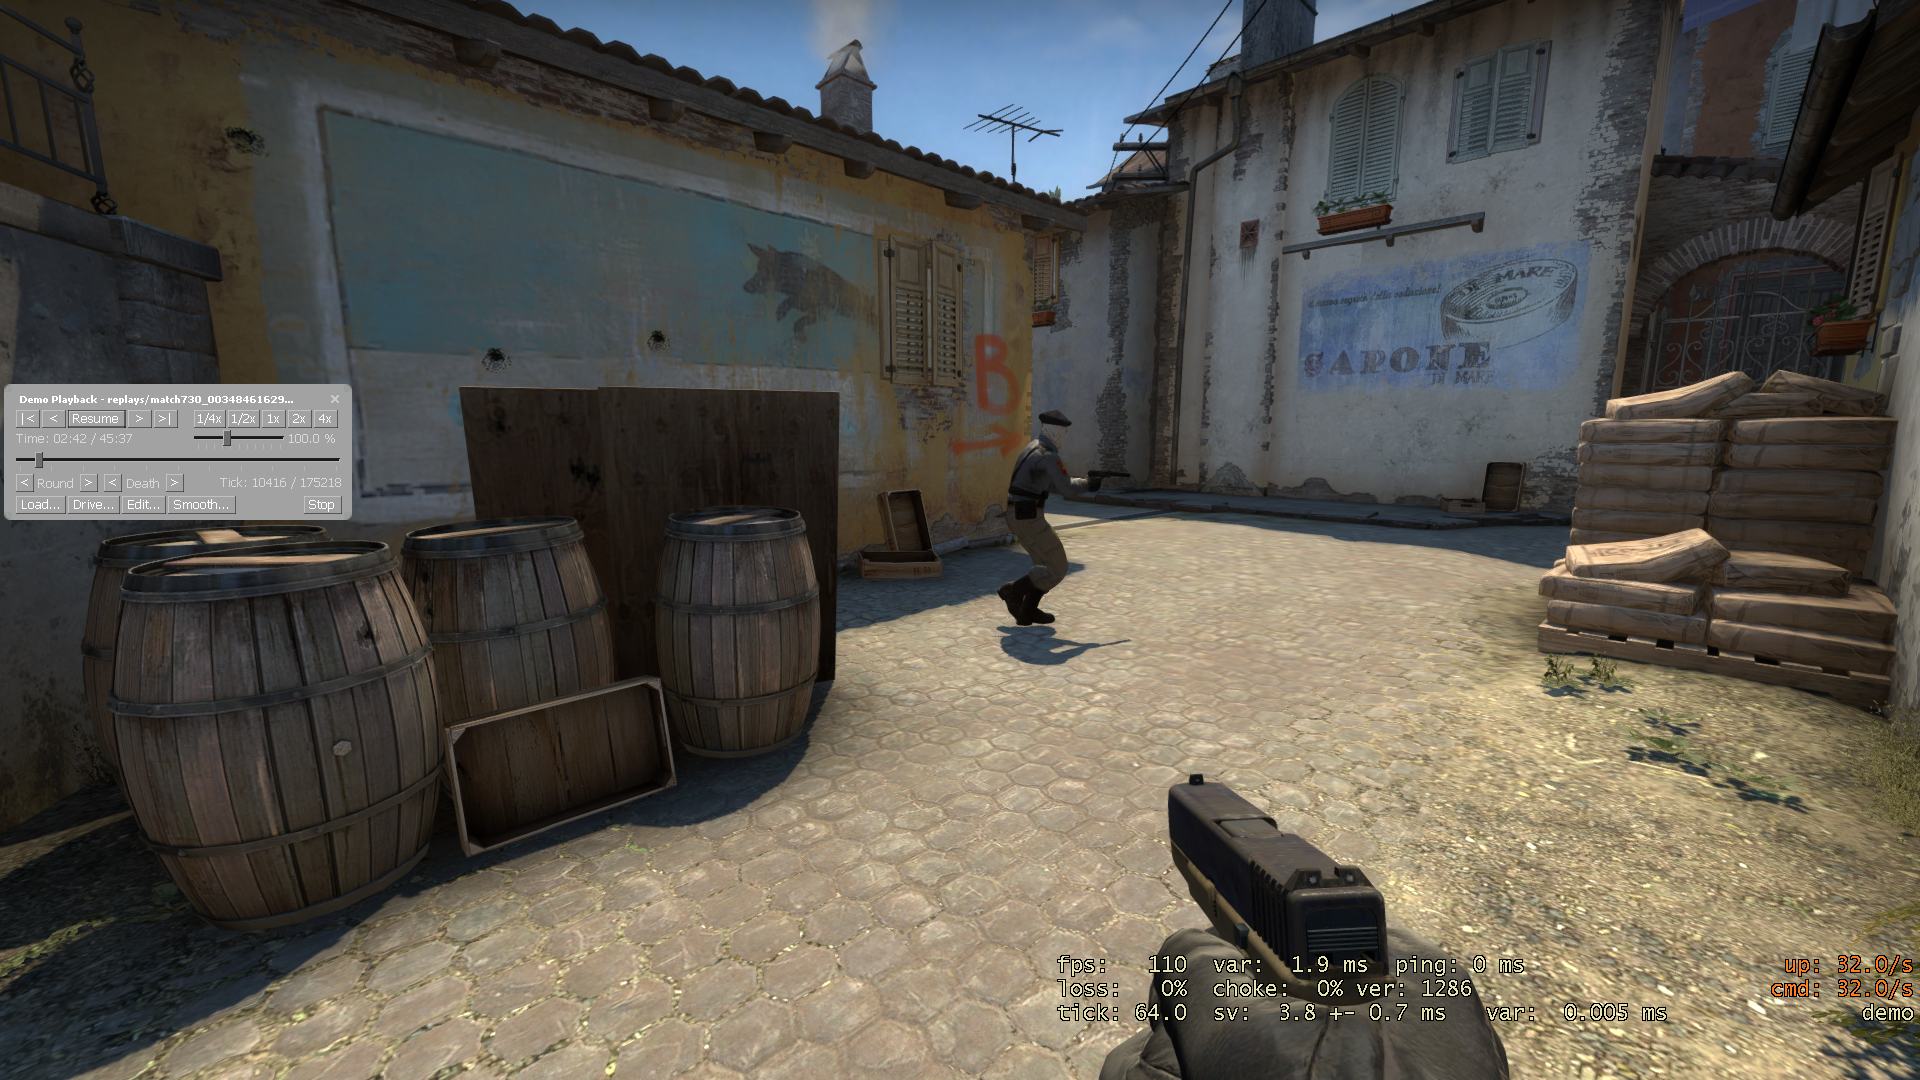t: (996, 409, 1102, 626)
